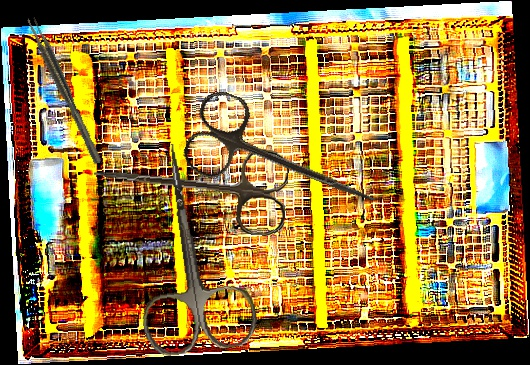Iris Scissors: (178, 85, 392, 237), (118, 136, 260, 359), (89, 134, 291, 238)
Tissue Forceps: (24, 14, 103, 167)
